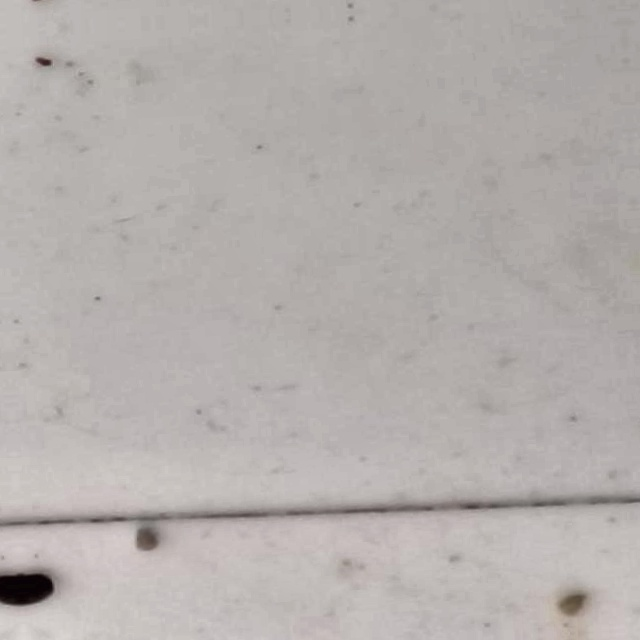varroa: (20, 570, 57, 607)
